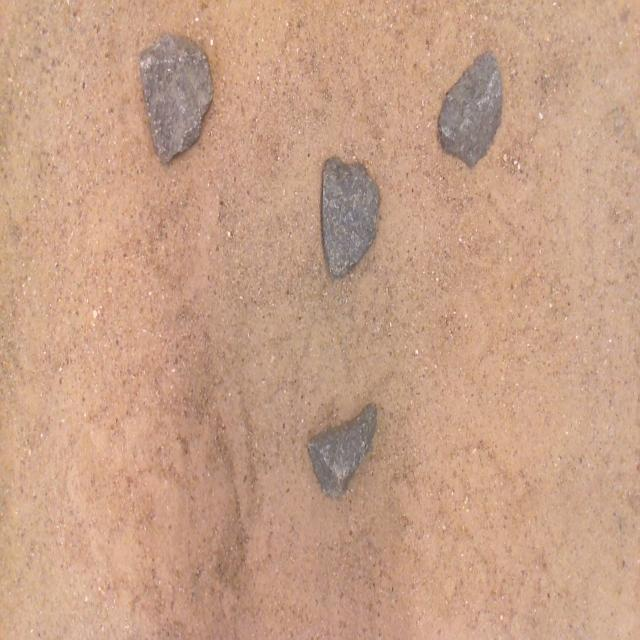rock: (139, 34, 212, 162), (439, 52, 502, 168), (322, 158, 379, 276), (308, 404, 376, 495)
